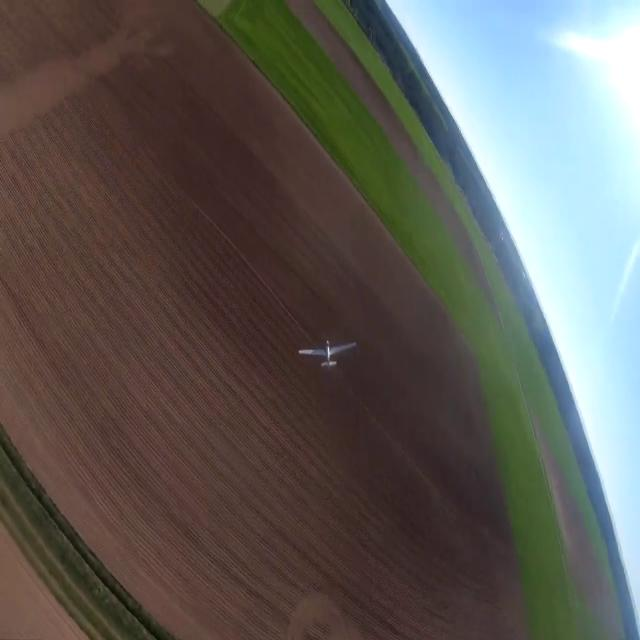iha: (290, 340, 350, 365)
